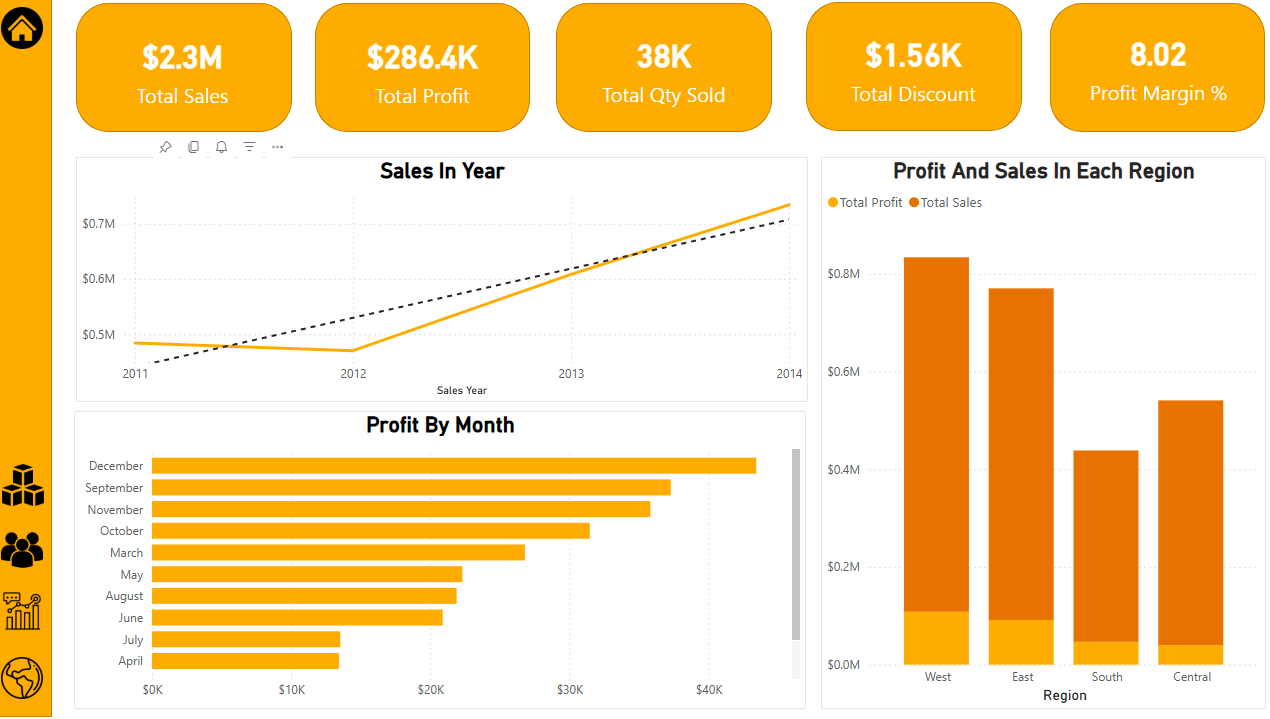

Layout of this report page (visuals, bound fields, positions):
{"tool":"powerbi","page":{"name":"Main Dashboard","canvas":[1280,720],"ordinal":0},"visuals":[{"type":"shape","box":[0,0,55.5,720],"z":0,"group":"g1"},{"type":"lineChart","title":"Sales In Year","fields":{"Category":["Superstore.Sales Year"],"Y":["Sum(Superstore.Sales)"]},"box":[79.1,160,731.8,245.5],"z":0},{"type":"shape","box":[79.2,5.8,215.8,129.2],"z":1000},{"type":"actionButton","box":[0,528.2,54.5,50],"z":1000,"group":"g1"},{"type":"shape","box":[317.5,5.8,215.8,129.2],"z":2000},{"type":"actionButton","box":[0,655.5,54.6,50.1],"z":2000,"group":"g1"},{"type":"shape","box":[559.2,5.8,215.8,129.2],"z":3000},{"type":"actionButton","box":[0,6,55,50],"z":3000,"group":"g1"},{"type":"shape","box":[809,5,216,129],"z":4000},{"type":"actionButton","box":[0.9,462.7,54.5,50],"z":4000,"group":"g1"},{"type":"shape","box":[1052.5,5.8,215.8,129.2],"z":5000},{"type":"textbox","box":[88.2,655.5,12.7,12.7],"z":6000},{"type":"card","fields":{"Values":["Measure Table.Total Discount"]},"box":[809,3,215,133],"z":7000},{"type":"card","fields":{"Values":["Table.Total Sales"]},"box":[77,5,217,132],"z":8000},{"type":"card","fields":{"Values":["Measure Table.Total Profit"]},"box":[317.3,5.5,216.4,132.7],"z":9000},{"type":"card","fields":{"Values":["Table.Total Qty Sold"]},"box":[559.1,3.6,216.4,132.7],"z":10000},{"type":"card","fields":{"Values":["Table.Profit Margin %"]},"box":[1053.6,1.8,215.5,132.7],"z":11000},{"type":"clusteredBarChart","title":"Profit By Month","fields":{"Category":["Superstore.Sales Month Name"],"Y":["Measure Table.Total Profit"]},"box":[77,414,732,298],"z":12000},{"type":"columnChart","title":"Profit And Sales In Each Region","fields":{"Y":["Measure Table.Total Profit","Measure Table.Total Sales"],"Category":["Superstore.Region"]},"box":[824,160,445,552],"z":13000},{"type":"actionButton","box":[0,589.1,54.5,50],"z":13001,"group":"g1"},{"type":"group","id":"g1","title":"Group 1","box":[0,0,55.5,720],"z":14000}]}

Visuals, with their boxes on the page's 1280x720 design canvas (x1, y1, x2, y2). These are canvas units, not pixel positions in the 1270x719 screenshot, which may show the page scaled, cropped or inside an application window:
shape: (0,0,56,720)
"Sales In Year" lineChart: (79,160,811,406)
shape: (79,6,295,135)
actionButton: (0,528,54,578)
shape: (318,6,533,135)
actionButton: (0,656,55,706)
shape: (559,6,775,135)
actionButton: (0,6,55,56)
shape: (809,5,1025,134)
actionButton: (1,463,55,513)
shape: (1052,6,1268,135)
textbox: (88,656,101,668)
card - Measure Table.Total Discount: (809,3,1024,136)
card - Table.Total Sales: (77,5,294,137)
card - Measure Table.Total Profit: (317,6,534,138)
card - Table.Total Qty Sold: (559,4,776,136)
card - Table.Profit Margin %: (1054,2,1269,134)
"Profit By Month" clusteredBarChart: (77,414,809,712)
"Profit And Sales In Each Region" columnChart: (824,160,1269,712)
actionButton: (0,589,54,639)
"Group 1" group: (0,0,56,720)
